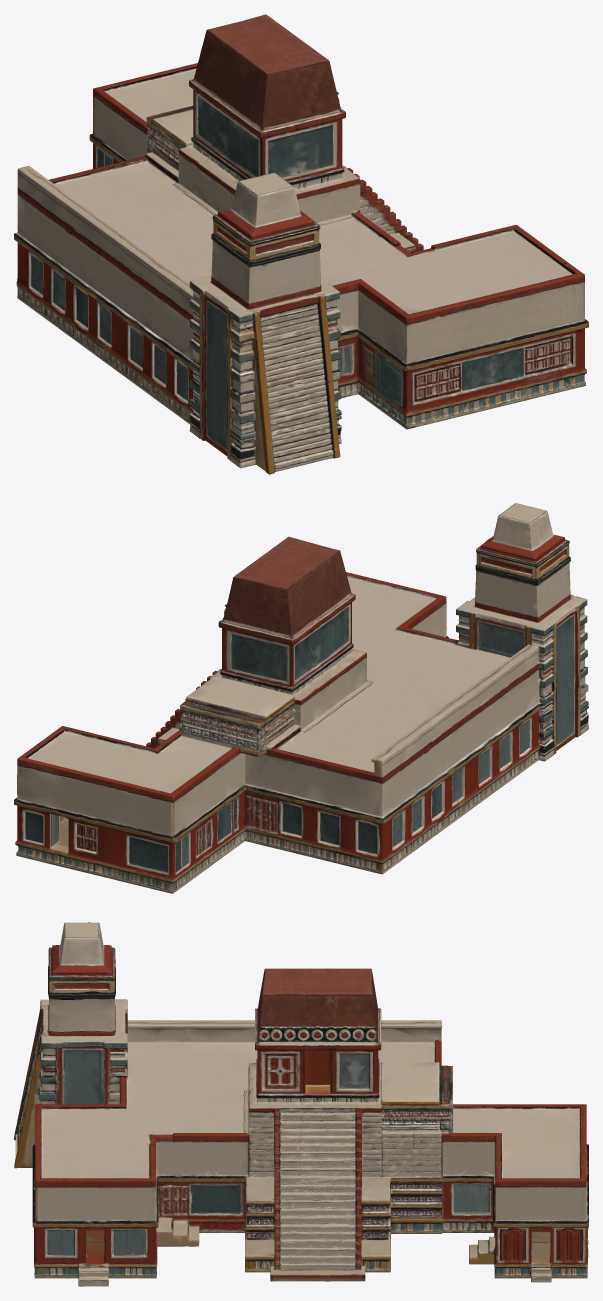
The model's file is Rio_Bec_Structure_5N2.min.glb.
The picture shows the model from 3 angles, top to bottom: view 1: azimuth 30°, elevation 25°; view 2: azimuth 150°, elevation 25°; view 3: azimuth 270°, elevation 25°; orthographic projection. The views are drawn at different scales.
Visible parts, largest first — view 1: tripo_node_6db0167a-22ba-4283-af27-87b9dcc12d0c; view 2: tripo_node_6db0167a-22ba-4283-af27-87b9dcc12d0c; view 3: tripo_node_6db0167a-22ba-4283-af27-87b9dcc12d0c.
Part boxes in pixels (<box>): tripo_node_6db0167a-22ba-4283-af27-87b9dcc12d0c: <box>14,14,588,474</box>; tripo_node_6db0167a-22ba-4283-af27-87b9dcc12d0c: <box>14,503,588,893</box>; tripo_node_6db0167a-22ba-4283-af27-87b9dcc12d0c: <box>14,922,588,1286</box>.
Size of the model in its own units: 0.6274 by 0.4321 by 0.9795.
1 material, 1 textured.
